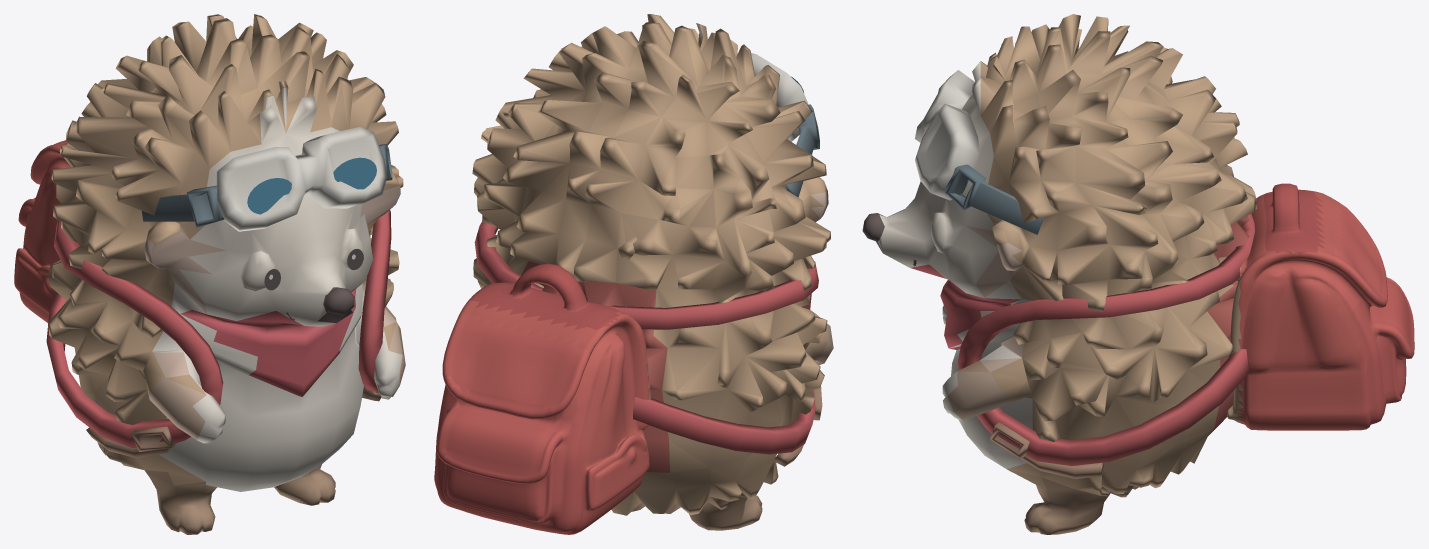
Rendered from hedgehog-plush-game.glb.
The picture shows the model from 3 angles, left to right: view 1: azimuth 30°, elevation 25°; view 2: azimuth 150°, elevation 25°; view 3: azimuth 270°, elevation 25°; orthographic projection. The views are drawn at different scales.
Visible parts, largest first — view 1: Single hedgehog with red mini backpack; view 2: Single hedgehog with red mini backpack; view 3: Single hedgehog with red mini backpack.
Part boxes in pixels (x1,y1,x2,y2): Single hedgehog with red mini backpack: [14, 14, 405, 534]; Single hedgehog with red mini backpack: [434, 14, 833, 534]; Single hedgehog with red mini backpack: [862, 14, 1414, 534].
Size of the model in its own units: 0.2822 by 0.4009 by 0.4328.
